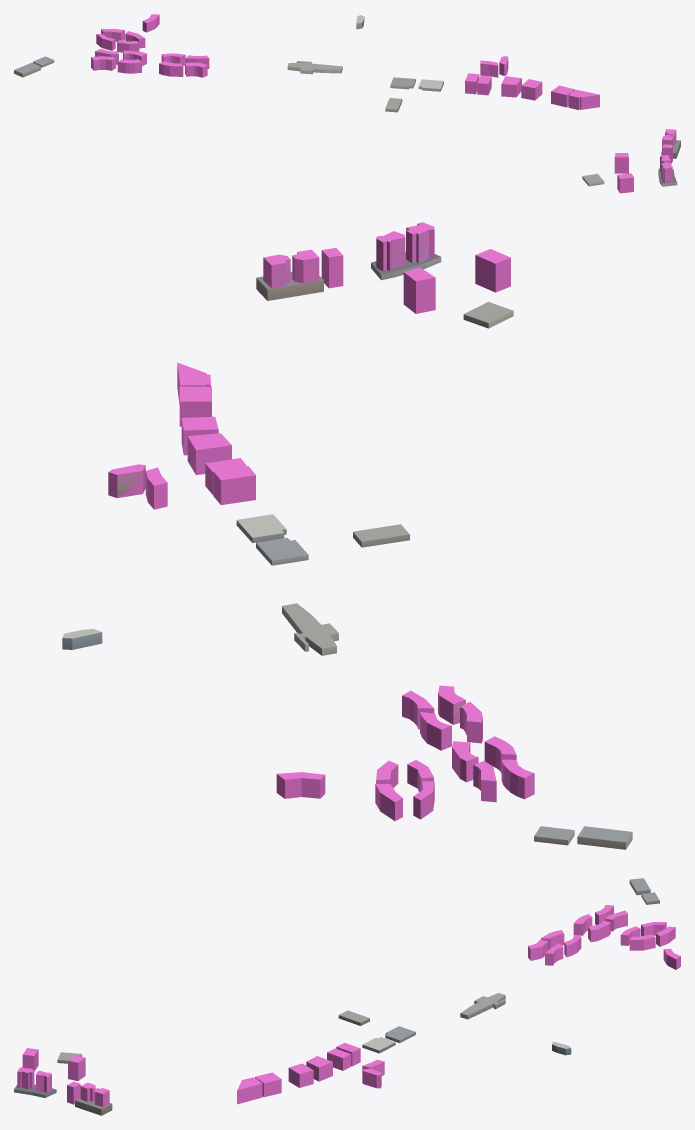
The model's file is bld_5_0.fbx.
3 renders of one model, top to bottom at view 1: azimuth 30°, elevation 25°; view 2: azimuth 150°, elevation 25°; view 3: azimuth 270°, elevation 25°, orthographic. The views are drawn at different scales.
Parts seen in each view (by area): view 1: bld_5_0_COL, bld_5_0_LOD0; view 2: bld_5_0_COL, bld_5_0_LOD0; view 3: bld_5_0_COL, bld_5_0_LOD0.
Part boxes in pixels (x1,y1,x2,y2): bld_5_0_COL: (91, 14, 676, 193); bld_5_0_LOD0: (14, 15, 680, 186); bld_5_0_COL: (108, 222, 534, 820); bld_5_0_LOD0: (62, 230, 632, 849); bld_5_0_COL: (17, 905, 680, 1106); bld_5_0_LOD0: (14, 878, 659, 1115).
Size of what is drawn, in the model's own units: 1570 by 61.13 by 1895.
